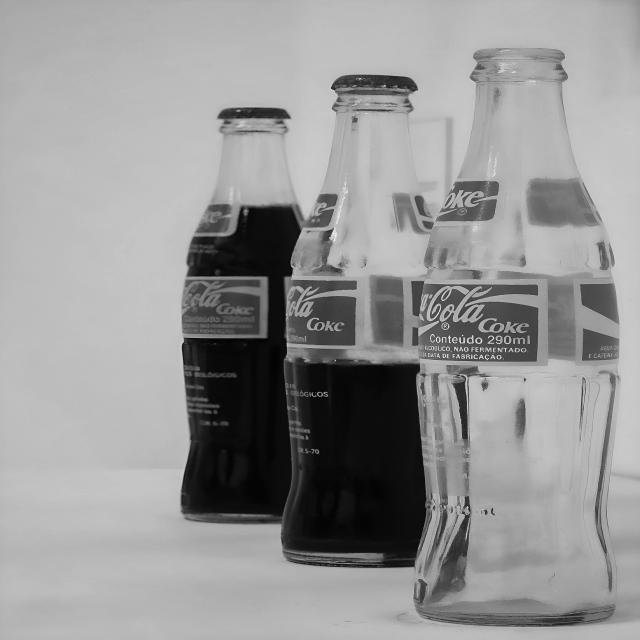electronic: (171, 47, 630, 640)
